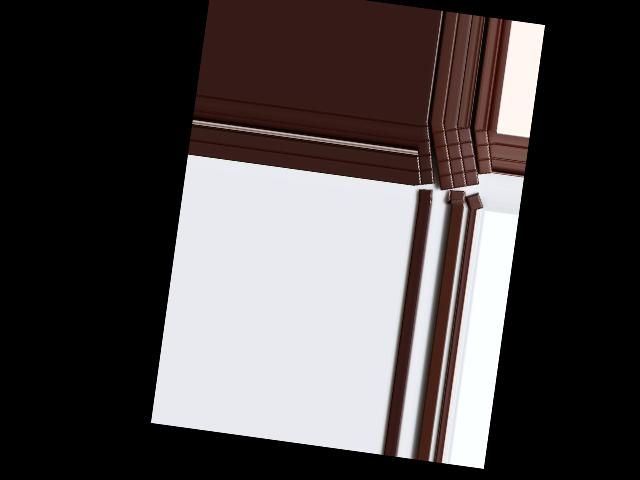chocolate: (423, 121, 487, 194)
